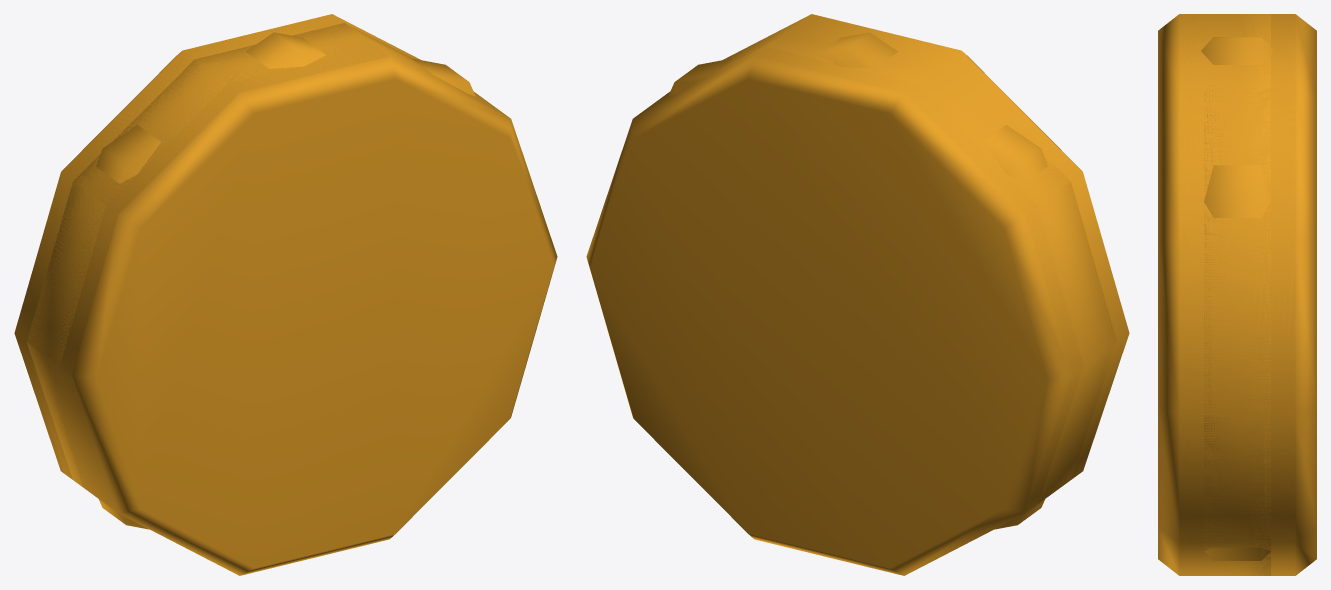
File: Coins_1_01.FBX
The picture shows the model from 3 angles, left to right: view 1: azimuth 30°, elevation 25°; view 2: azimuth 150°, elevation 25°; view 3: azimuth 270°, elevation 25°; orthographic projection.
Parts seen in each view (by area): view 1: Coin_3_01, Coin_3_02, Coin_1_02, Coin_4_02, Coin_1_01, Coin_4_01; view 2: Coin_3_01, Coin_3_02, Coin_1_02, Coin_1_01, Coin_4_01, Coin_4_02; view 3: Coin_3_02, Coin_3_01, Coin_1_02, Coin_1_01, Coin_4_02, Coin_4_01.
Boxes of the visible parts, bbox=[...] form: Coin_3_01: bbox=[15, 14, 557, 575]; Coin_3_02: bbox=[14, 14, 509, 473]; Coin_1_02: bbox=[27, 23, 369, 486]; Coin_4_02: bbox=[96, 32, 475, 529]; Coin_1_01: bbox=[28, 23, 424, 351]; Coin_4_01: bbox=[96, 32, 468, 524]; Coin_3_01: bbox=[586, 15, 1129, 575]; Coin_3_02: bbox=[634, 14, 1096, 512]; Coin_1_02: bbox=[727, 36, 1116, 492]; Coin_1_01: bbox=[646, 32, 1117, 503]; Coin_4_01: bbox=[668, 32, 1047, 529]; Coin_4_02: bbox=[818, 32, 1047, 524]; Coin_3_02: bbox=[1179, 14, 1295, 575]; Coin_3_01: bbox=[1158, 14, 1316, 575]; Coin_1_02: bbox=[1204, 14, 1270, 575]; Coin_1_01: bbox=[1204, 14, 1270, 575]; Coin_4_02: bbox=[1201, 37, 1272, 560]; Coin_4_01: bbox=[1213, 37, 1273, 560].
Bounding box in the file's own units: 2.3 × 0.6447 × 2.3.
